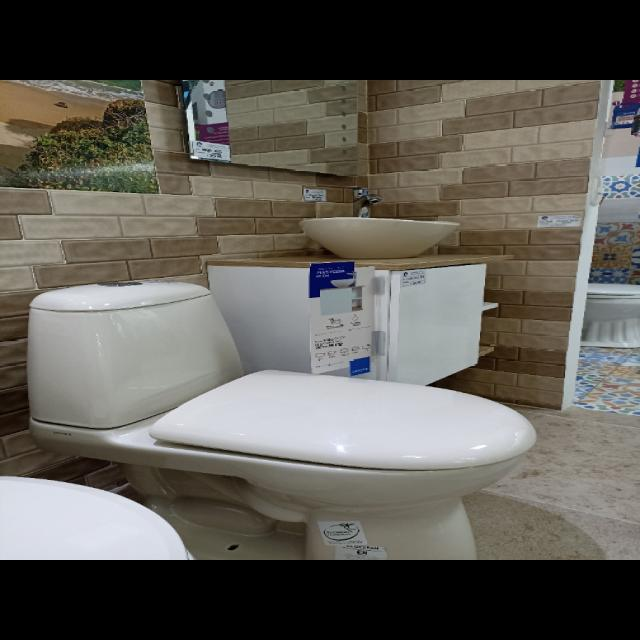toilet: (26, 279, 537, 560)
